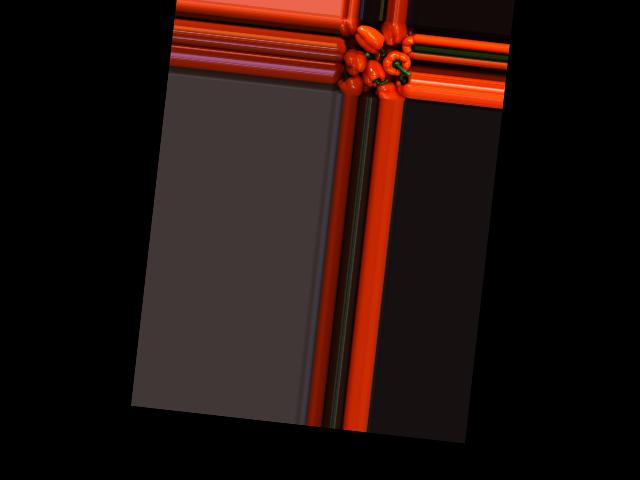bell_pepper: (331, 56, 351, 87)
